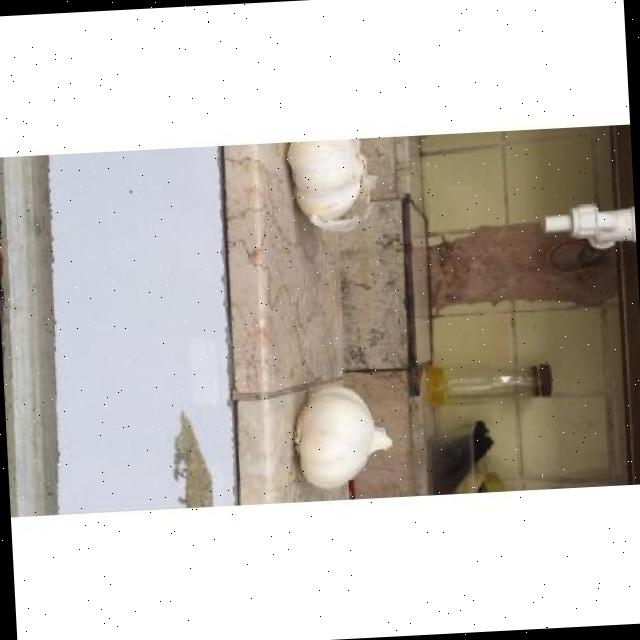garlic: (294, 384, 392, 489), (286, 140, 374, 231)
